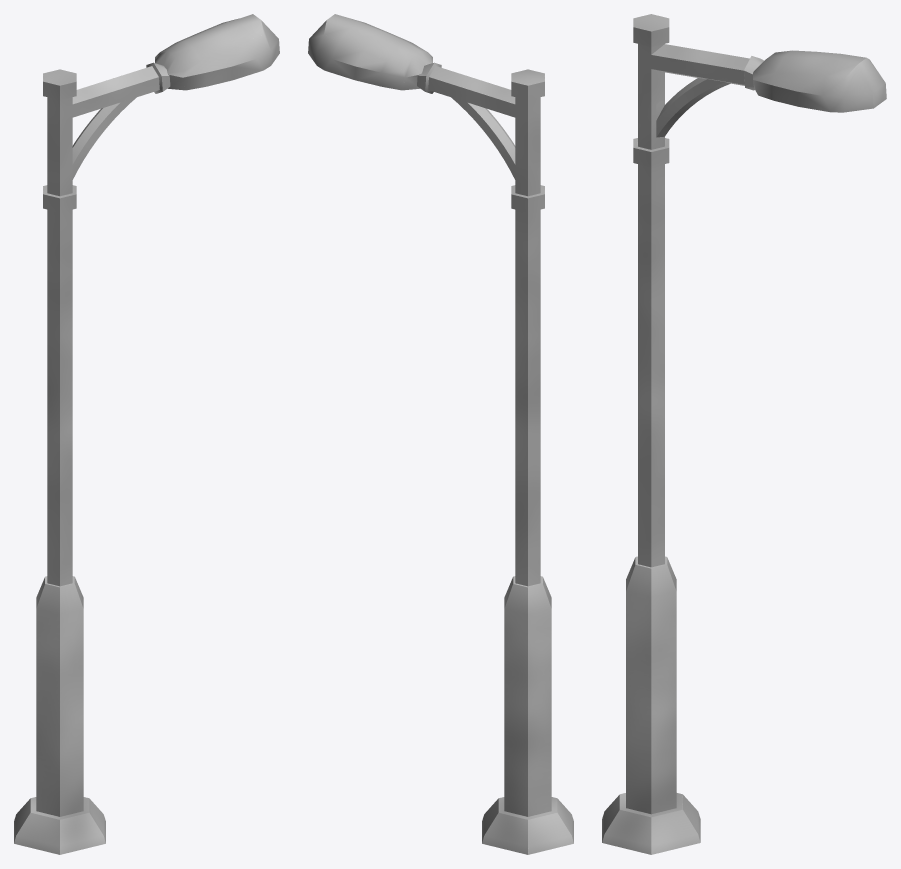
The model's file is 가로등.fbx.
The picture shows the model from 3 angles, left to right: view 1: azimuth 30°, elevation 25°; view 2: azimuth 150°, elevation 25°; view 3: azimuth 330°, elevation 25°; orthographic projection. The views are drawn at different scales.
Visible parts, largest first — view 1: 가로등_1; view 2: 가로등_1; view 3: 가로등_1.
Boxes of the visible parts, x1=… form: 가로등_1: x1=14, y1=14, x2=279, y2=854; 가로등_1: x1=308, y1=14, x2=573, y2=854; 가로등_1: x1=602, y1=14, x2=886, y2=854.
Size of the model in its own units: 71.23 by 201 by 21.82.
1 material, 1 textured.
